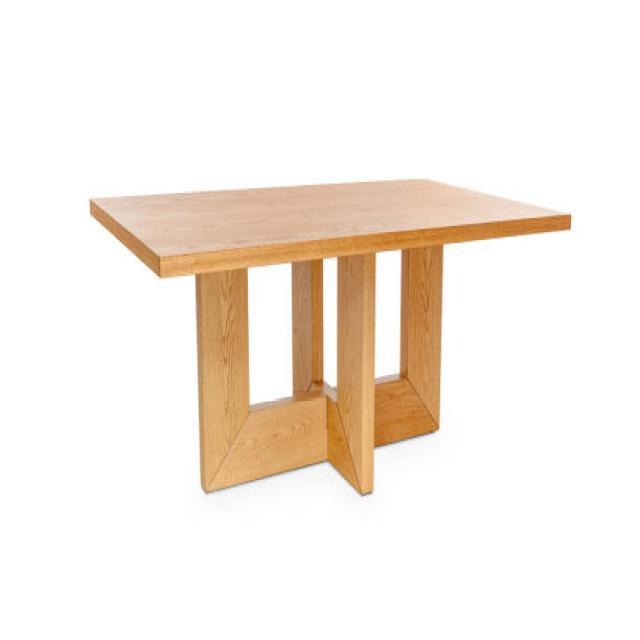table: (88, 175, 572, 496)
